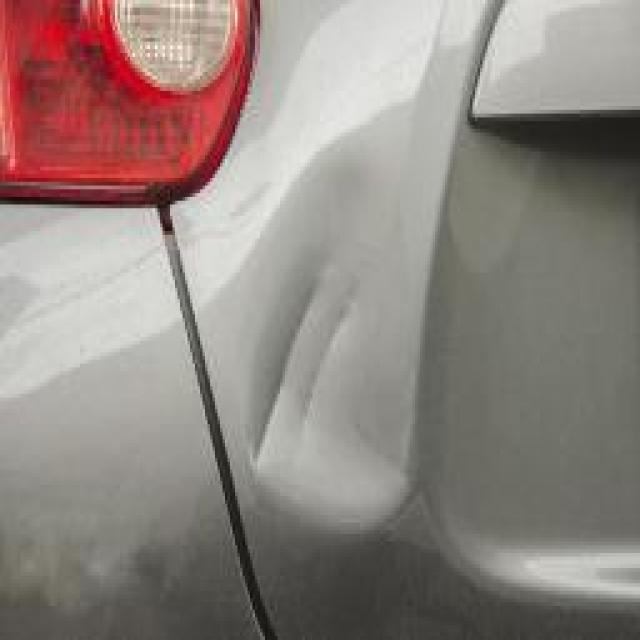Dickey: (232, 95, 498, 564)
